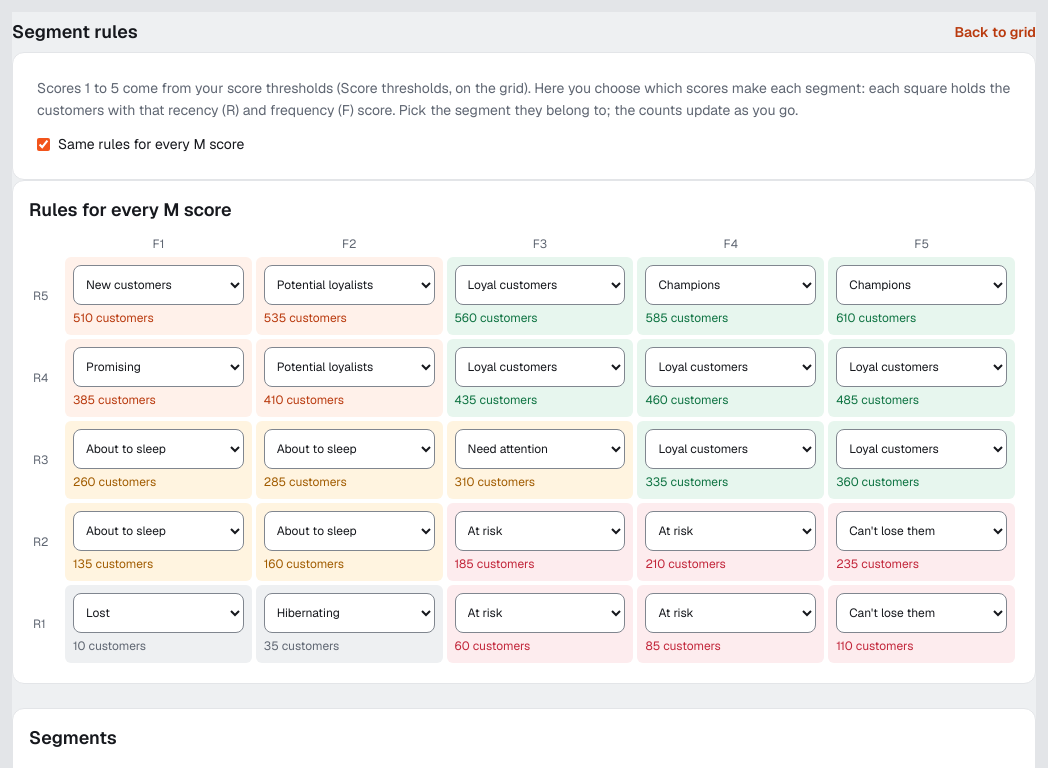
it: RulesScreen (S7, PRD story 6) › gives each new change its own 10 seconds
The image size is (1048, 768).
Select "Champions" in the dropdown named "Segment for R5 F1": (158, 285) x1=73 y1=265 x2=244 y2=305
Wait 6000 ms
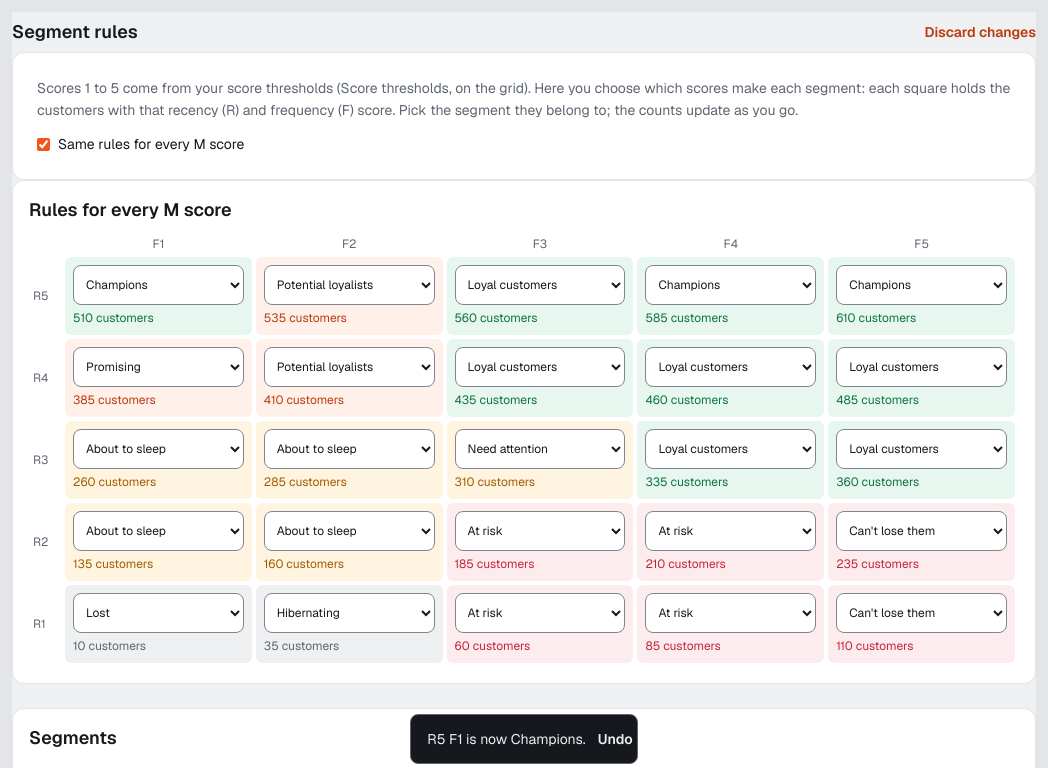
Select "Lost" in the dropdown named "Segment for R4 F1": (158, 367) x1=73 y1=347 x2=244 y2=387
Wait 6000 ms
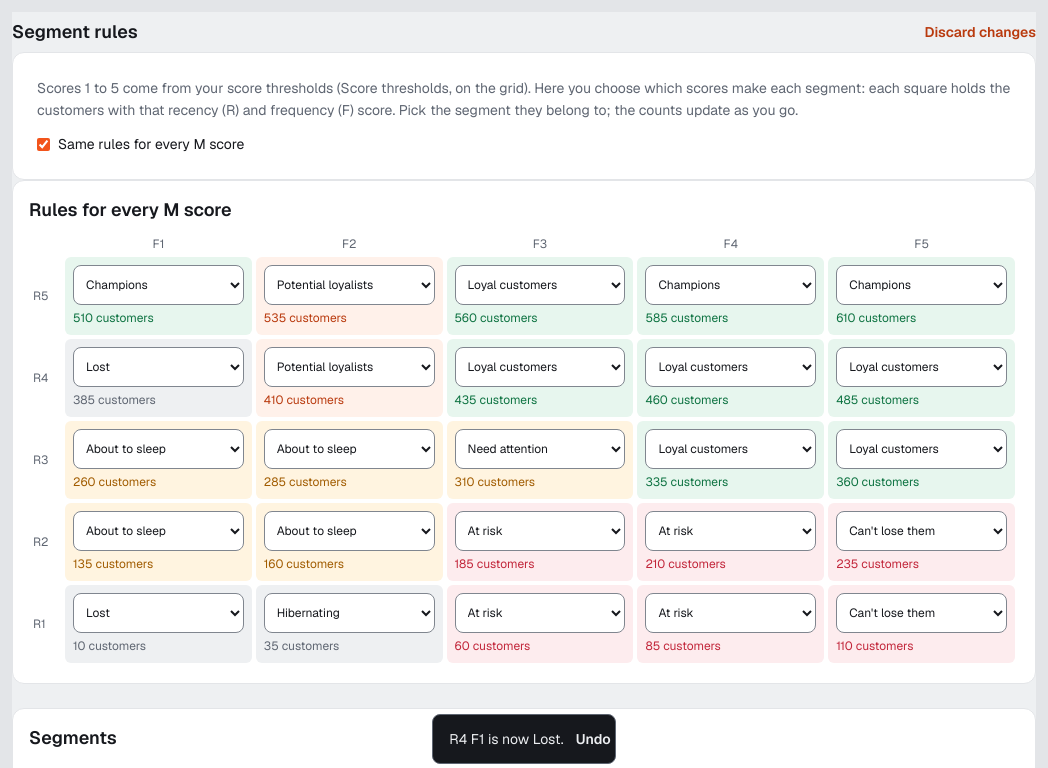
Result: the message shows "R4 F1 is now Lost." at x1=449 y1=730 x2=564 y2=748
